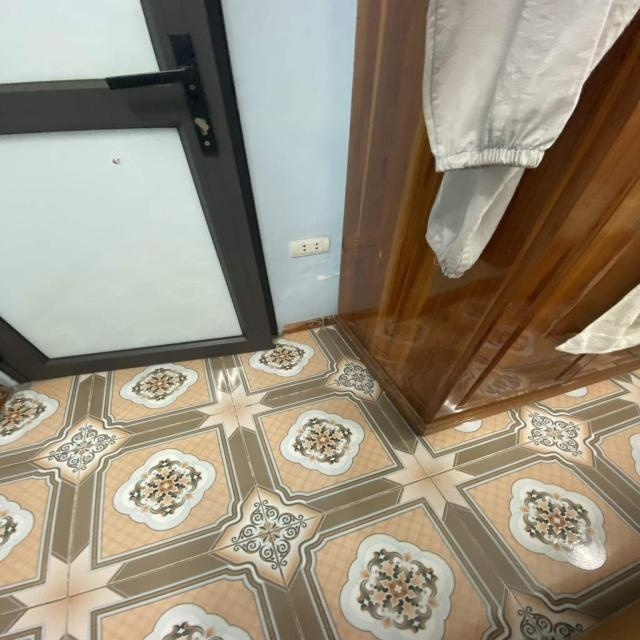outlet: (289, 235, 330, 258)
